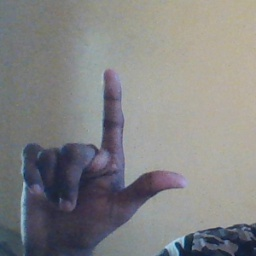L: (15, 65, 190, 250)
